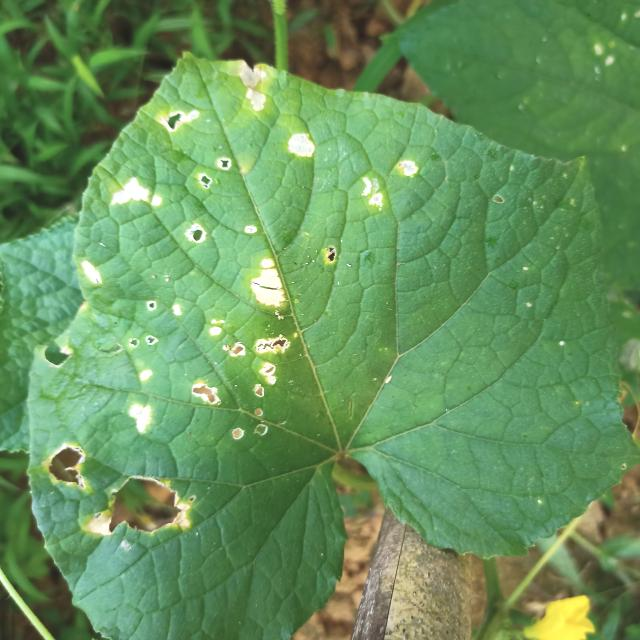disease_cucumber: (187, 316, 296, 444), (82, 468, 196, 552), (355, 157, 425, 212), (246, 251, 287, 316), (107, 170, 166, 214), (42, 442, 85, 492), (234, 60, 269, 115), (191, 151, 234, 193), (122, 399, 160, 443), (157, 102, 202, 138), (282, 128, 318, 163), (78, 256, 104, 290), (187, 217, 208, 248)
